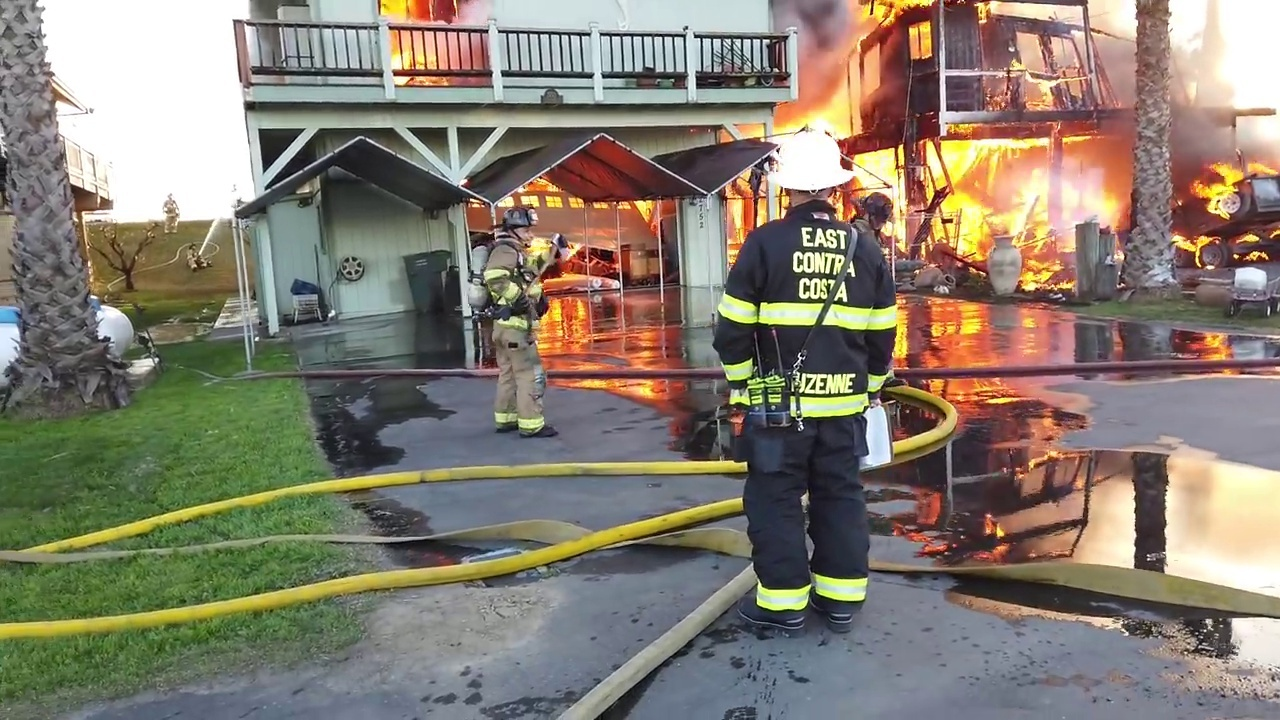fire: (727, 104, 1114, 295), (1172, 165, 1280, 274), (855, 1, 937, 53), (1009, 57, 1094, 104), (1097, 29, 1139, 103), (385, 41, 448, 87), (593, 194, 658, 226), (378, 1, 449, 24), (495, 193, 521, 212), (565, 193, 587, 215), (517, 191, 541, 209), (543, 193, 567, 210)
smoke: (1162, 3, 1277, 166), (764, 1, 876, 118), (1000, 4, 1098, 58), (457, 2, 496, 70)
